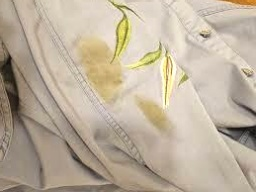earth: (91, 66, 122, 98), (145, 106, 168, 130), (83, 44, 107, 64)
